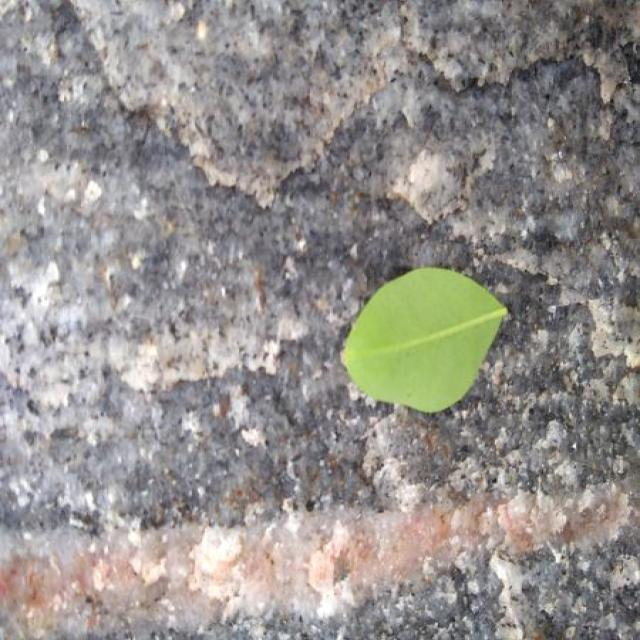drumstick: (343, 268, 507, 412)
